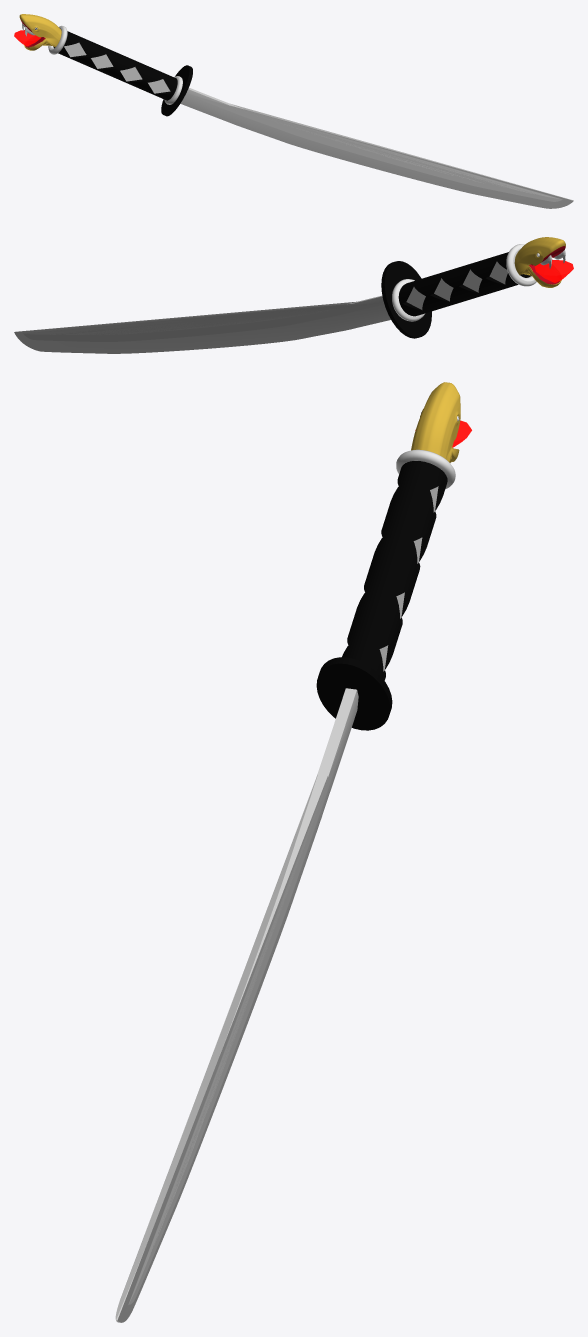
The model's file is sword.fbx.
3 views of the same model, one above another, from view 1: azimuth 30°, elevation 25°; view 2: azimuth 150°, elevation 25°; view 3: azimuth 270°, elevation 25° (orthographic). The views are drawn at different scales.
Parts seen in each view (by area): view 1: NurbsPath.001, handvat.001, snake head.001, Cylinder.001; view 2: NurbsPath.001, handvat.001, Cylinder.001, snake head.001, RUBY.001; view 3: NurbsPath.001, handvat.001, Cylinder.001, snake head.001.
Part boxes in pixels (x1=…): NurbsPath.001: x1=180, y1=87, x2=573, y2=208; handvat.001: x1=48, y1=25, x2=182, y2=104; snake head.001: x1=19, y1=14, x2=61, y2=50; Cylinder.001: x1=161, y1=65, x2=192, y2=116; NurbsPath.001: x1=14, y1=295, x2=390, y2=353; handvat.001: x1=392, y1=244, x2=536, y2=321; Cylinder.001: x1=381, y1=261, x2=431, y2=338; snake head.001: x1=514, y1=237, x2=565, y2=287; RUBY.001: x1=534, y1=259, x2=573, y2=282; NurbsPath.001: x1=115, y1=688, x2=358, y2=1322; handvat.001: x1=342, y1=449, x2=455, y2=680; Cylinder.001: x1=316, y1=657, x2=392, y2=730; snake head.001: x1=411, y1=382, x2=460, y2=462.
Size of the model in its own units: 642 by 317 by 208.
